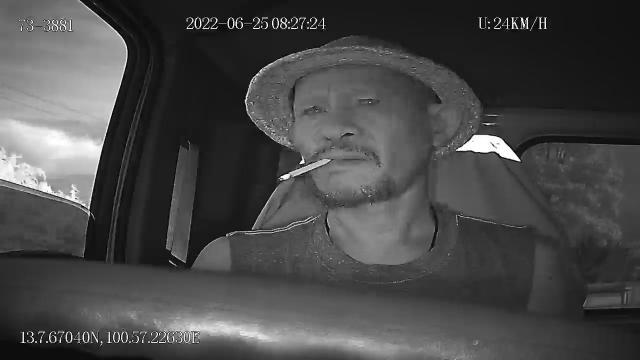SafeDriving: (5, 1, 90, 40), (351, 88, 386, 112), (296, 98, 332, 120)
Smoking: (276, 155, 334, 183)
